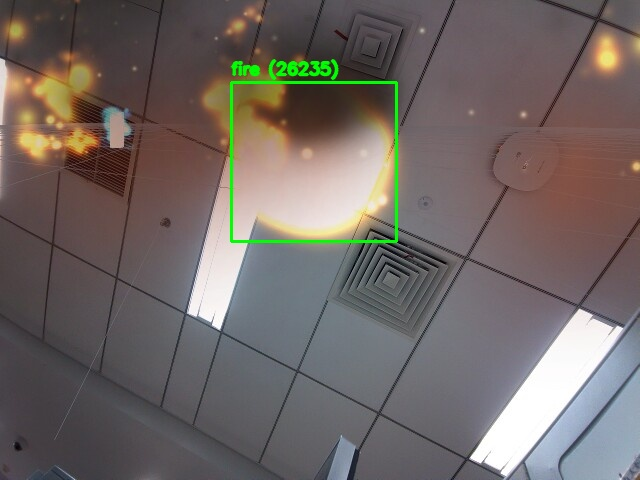fire: (231, 82, 396, 241)
